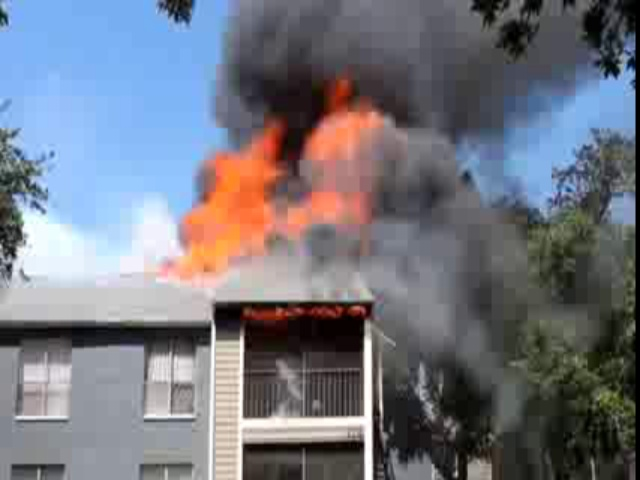fire: (176, 147, 289, 269)
